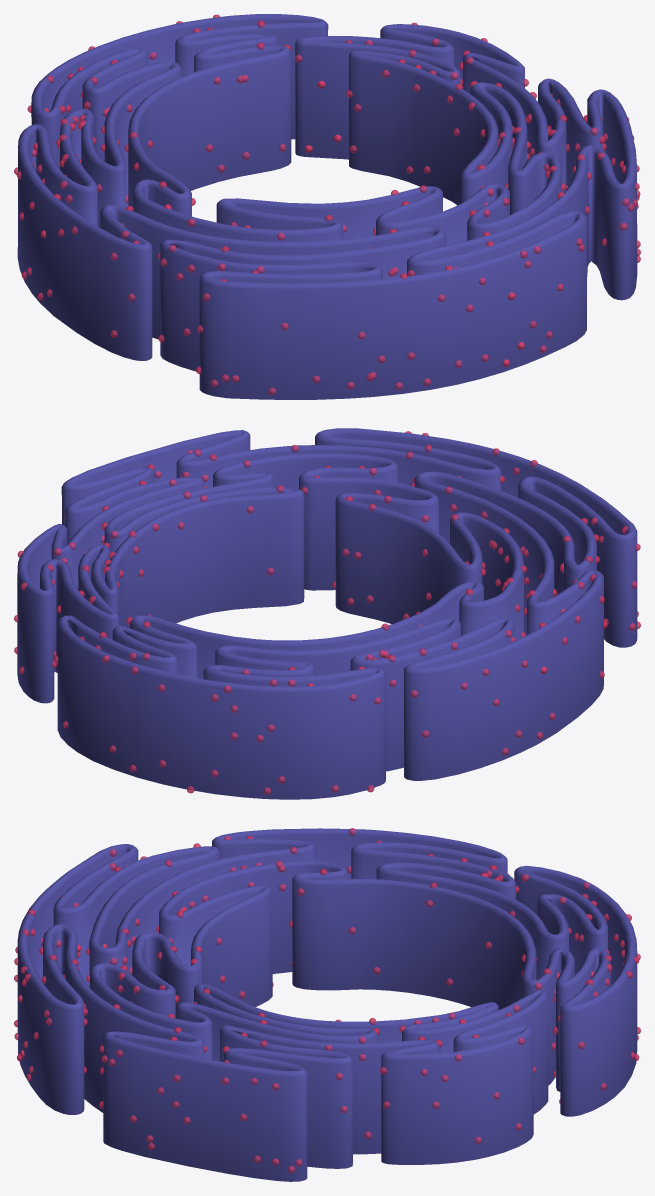
Rendered from siateczka.fbx.
The picture shows the model from 3 angles, top to bottom: view 1: azimuth 30°, elevation 25°; view 2: azimuth 150°, elevation 25°; view 3: azimuth 270°, elevation 25°; orthographic projection. The views are drawn at different scales.
Parts seen in each view (by area): view 1: BezierCurve; view 2: BezierCurve; view 3: BezierCurve.
Boxes of the visible parts, x1=… form: BezierCurve: x1=17, y1=14, x2=637, y2=399; BezierCurve: x1=17, y1=428, x2=637, y2=799; BezierCurve: x1=17, y1=828, x2=637, y2=1181.
Bounding box in the file's own units: 386 × 83 × 409.
